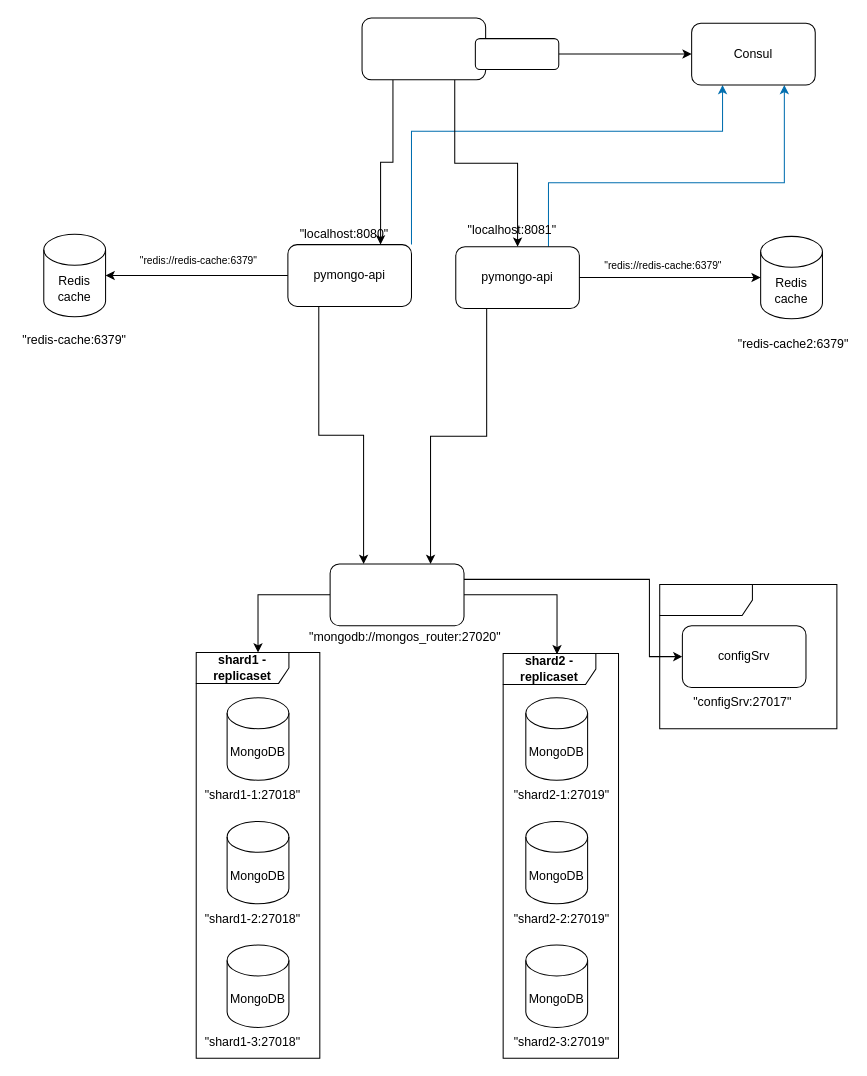
Some shapes in this 867 by 1076 pixel diagram are drawn without their labels. The shapes that lost their labels are listed below. From the top down, each one's centre as x and y in pixels, then its label:
At (x=423, y=48): "APISIX Gateway".
At (x=516, y=54): "Consul KV".
At (x=396, y=594): "mongos_router".
At (x=748, y=656): "config_server - replicaset".
